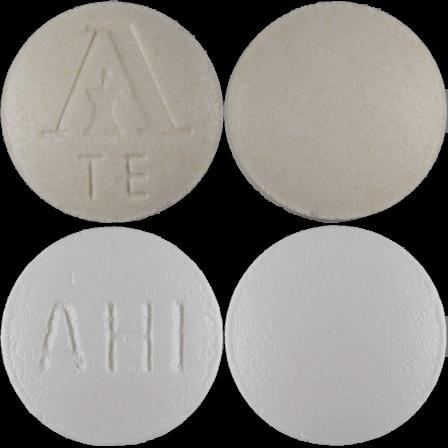51655-637: (0, 0, 224, 224)
